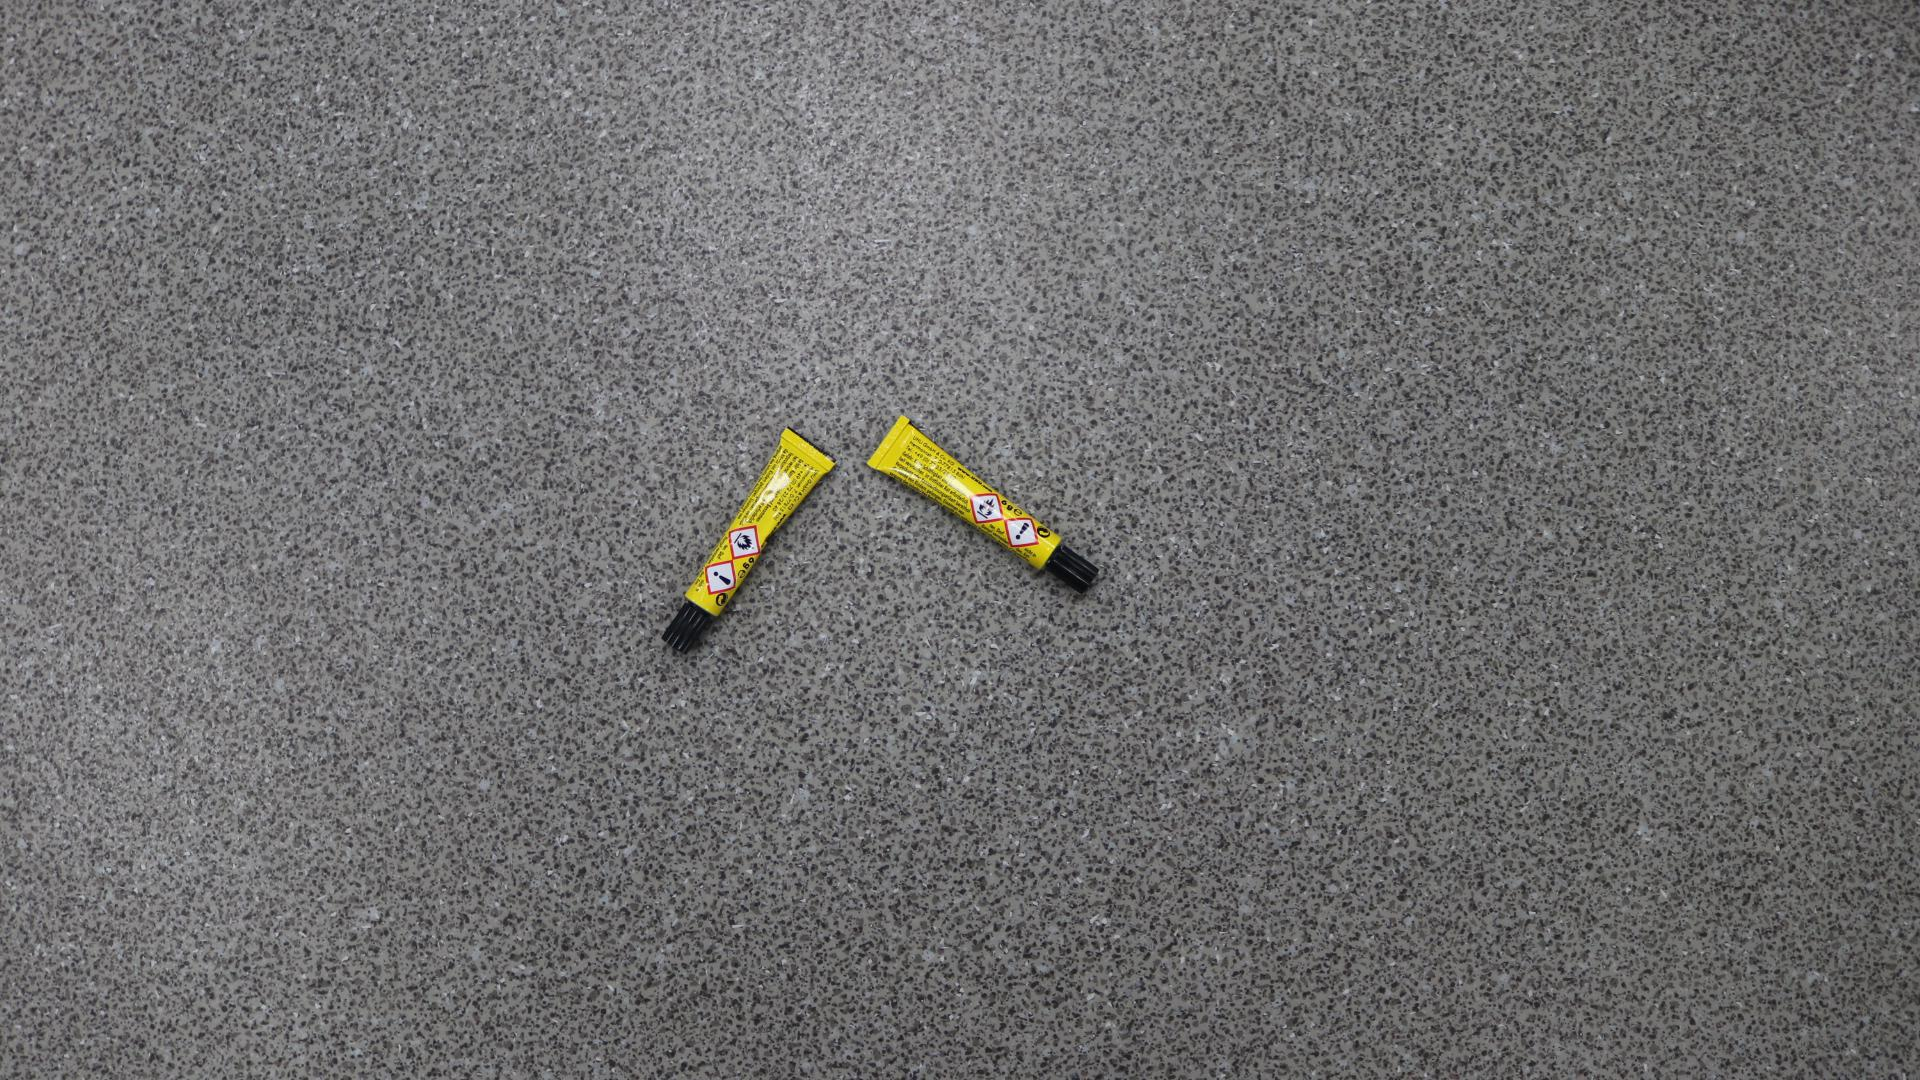Head: (1071, 565, 1075, 569), (683, 625, 687, 629)
Tail: (807, 447, 812, 451), (884, 441, 888, 445)
Tube: (867, 415, 1099, 594), (660, 428, 836, 655)
